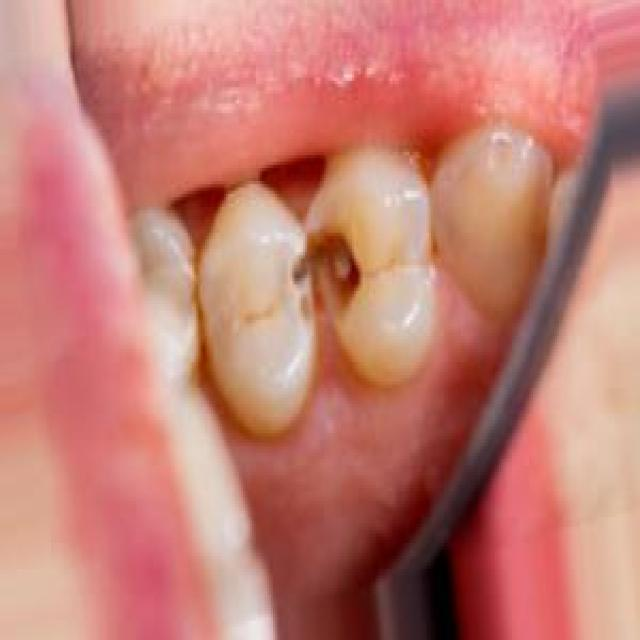caries: (302, 176, 386, 354)
